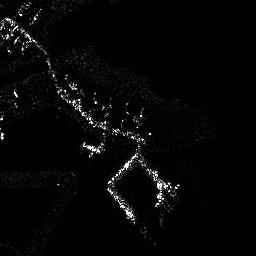ship: (79, 142, 101, 154)
